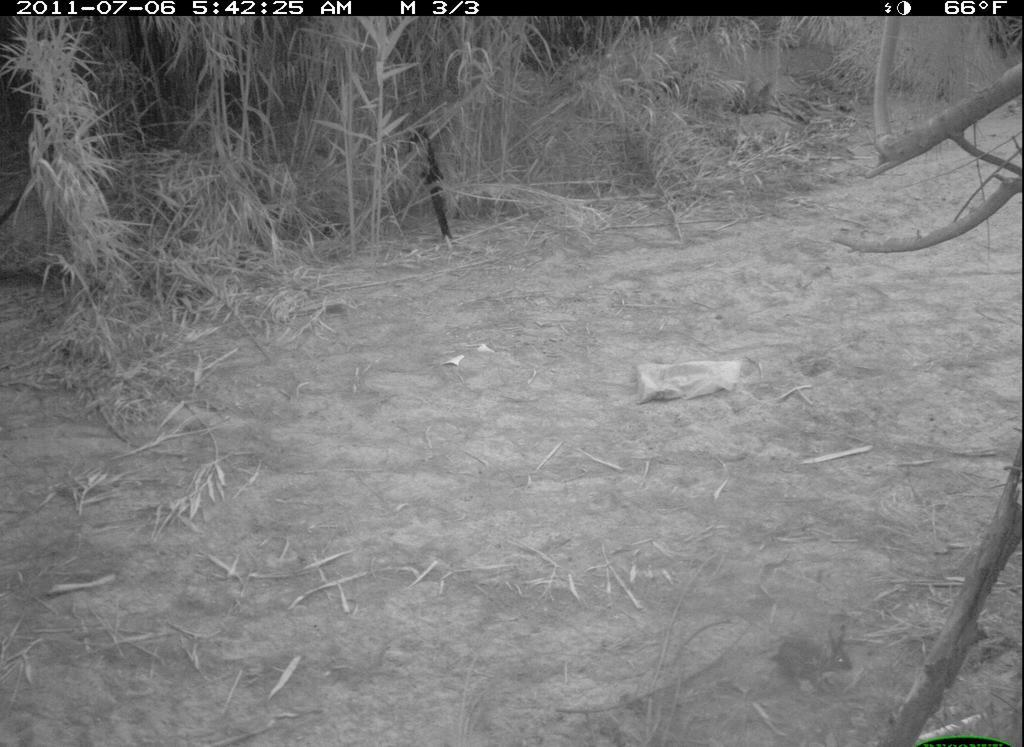rabbit: (768, 623, 856, 699)
